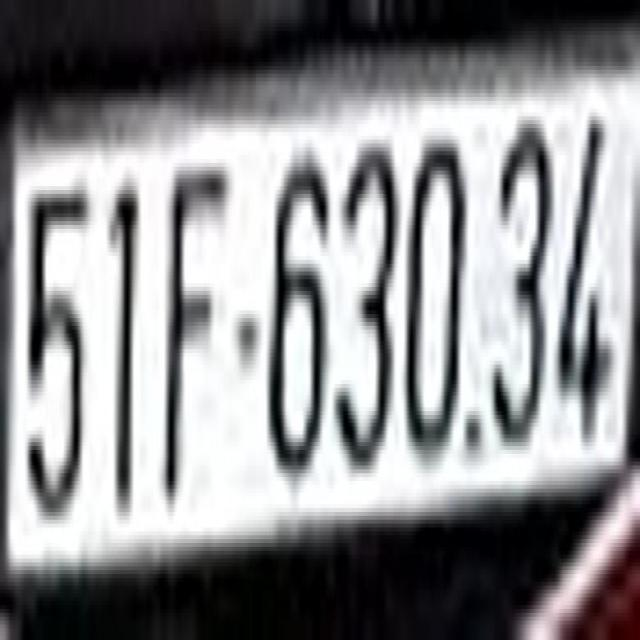0: (401, 132, 465, 481)
1: (106, 171, 138, 516)
3: (487, 120, 550, 466), (336, 136, 396, 488)
4: (557, 89, 616, 442)
5: (26, 167, 90, 520)
6: (265, 132, 327, 504)
F: (161, 136, 228, 512)
